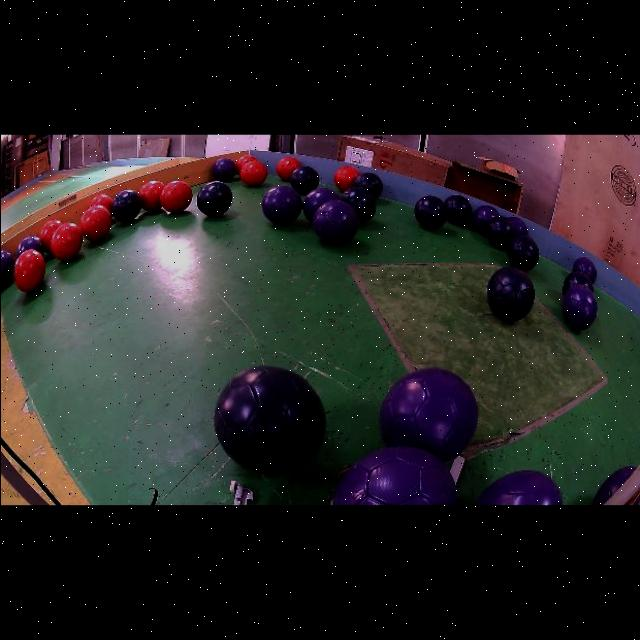B: (213, 366, 325, 473), (486, 267, 533, 322), (339, 185, 375, 224), (196, 180, 232, 216), (506, 233, 538, 270), (413, 194, 446, 229), (110, 189, 141, 223), (485, 215, 515, 248), (443, 194, 471, 224), (289, 166, 319, 193), (352, 172, 382, 198), (561, 270, 592, 294)
P: (378, 367, 477, 461), (332, 446, 457, 505), (474, 470, 561, 505), (311, 199, 359, 245), (591, 465, 635, 505), (561, 283, 596, 330), (261, 185, 302, 225), (302, 187, 339, 221), (472, 205, 498, 234), (15, 234, 44, 258), (210, 157, 236, 181), (572, 256, 596, 281), (0, 250, 14, 285), (507, 215, 528, 234)
R: (13, 248, 44, 292), (49, 221, 81, 260), (79, 205, 111, 241), (159, 180, 191, 212), (138, 180, 164, 211), (39, 219, 61, 252), (239, 159, 266, 185), (333, 166, 359, 190), (275, 156, 299, 180), (88, 193, 112, 210), (235, 154, 255, 173)
